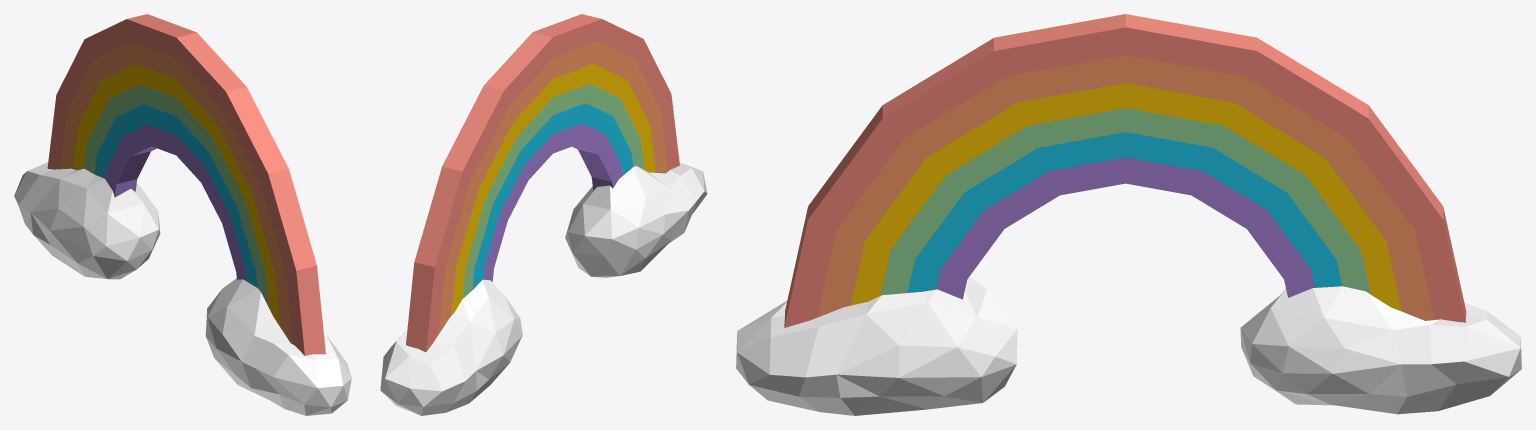
File: Rainbow.glb
3 views of the same model, side by side, from view 1: azimuth 30°, elevation 25°; view 2: azimuth 150°, elevation 25°; view 3: azimuth 270°, elevation 25° (orthographic). The views are drawn at different scales.
Parts seen in each view (by area): view 1: Rainbow_Circle.010; view 2: Rainbow_Circle.010; view 3: Rainbow_Circle.010.
Boxes of the visible parts, box(x1,y1,x2,y2) form: Rainbow_Circle.010: box(14, 14, 351, 415); Rainbow_Circle.010: box(380, 14, 707, 415); Rainbow_Circle.010: box(736, 14, 1521, 415).
Bounding box in the file's own units: 3.27 × 9.97 × 18.33.
